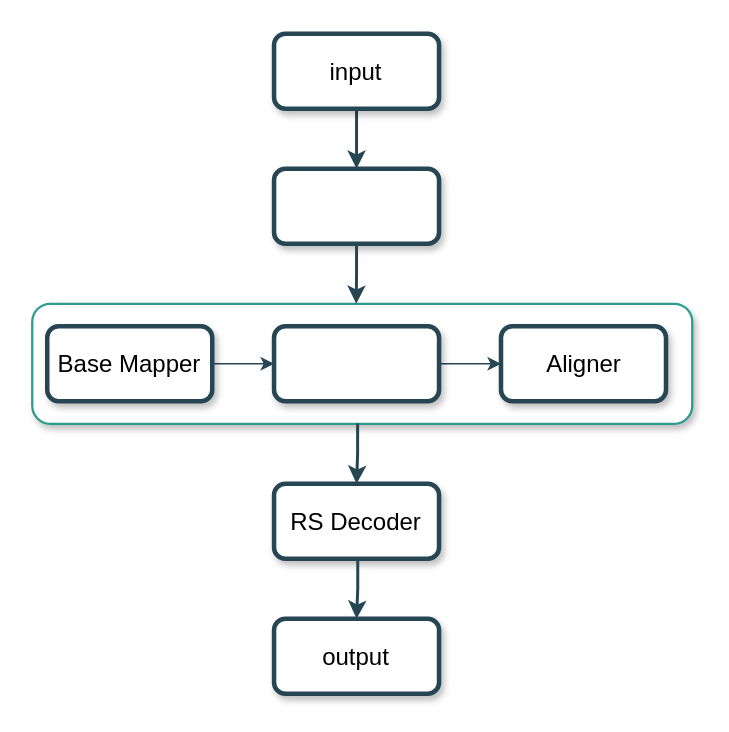
This 729x732 diagram has some shape labels left out. The shapes that lost their labels are listed below. From the top down, each one's centre as x and y in pixels, then its label:
At [357,208]: "RS Encoder".
At [357,365]: "Channel/ DNASoup".
